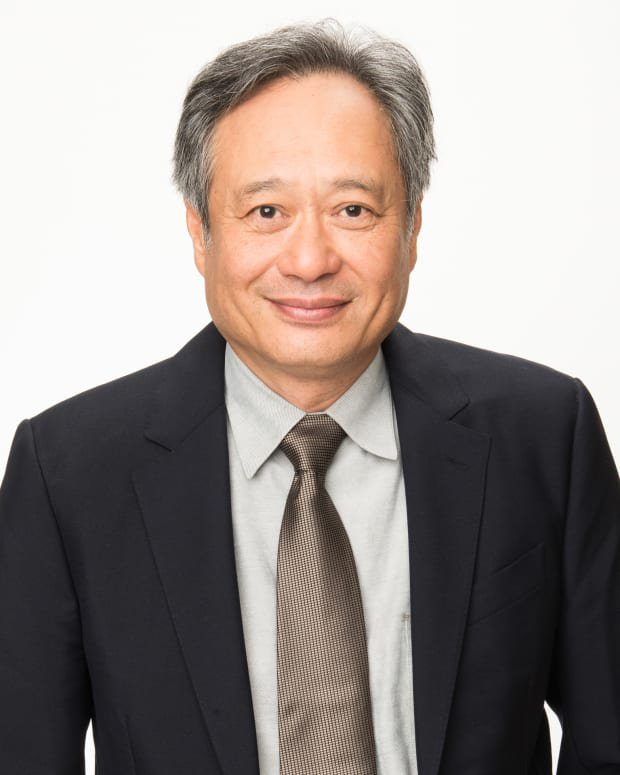noMask: (154, 28, 467, 382)
